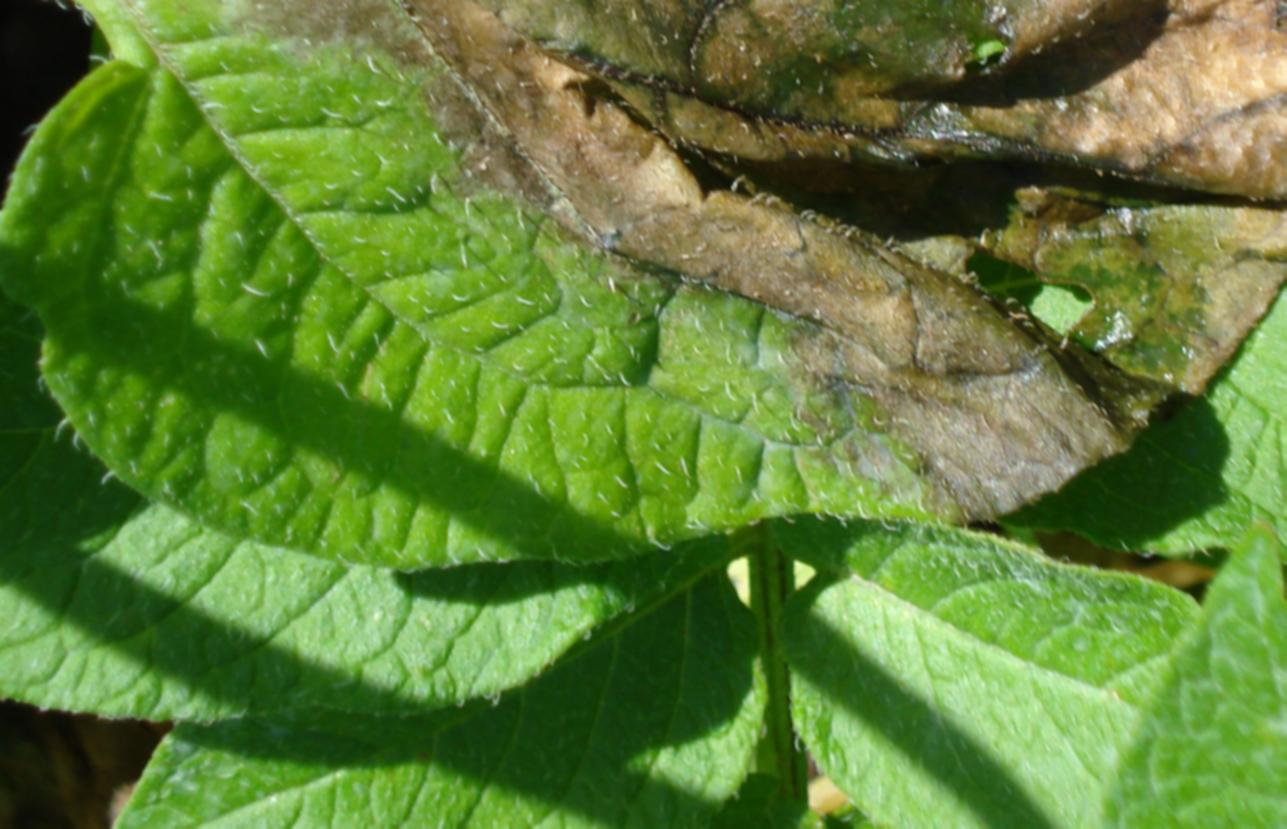Tomato leaf late blight: (0, 0, 1287, 600)
